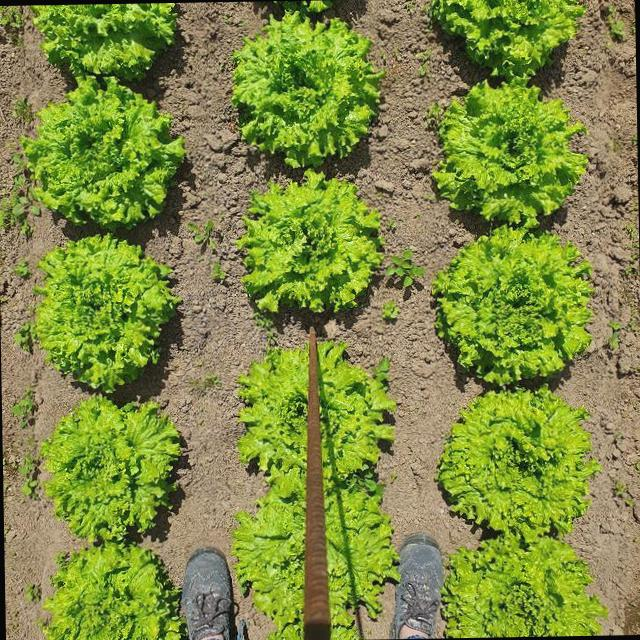Lettuce-Ready-to-Harvest: (432, 226, 592, 385), (21, 76, 183, 229), (436, 386, 599, 538), (231, 12, 382, 167), (35, 235, 177, 392), (433, 82, 586, 227), (237, 170, 383, 312), (41, 395, 180, 540), (442, 535, 606, 638), (44, 543, 183, 640), (432, 0, 583, 79), (324, 482, 397, 639), (31, 3, 176, 79), (318, 341, 395, 484), (233, 485, 304, 640), (238, 348, 306, 483)
